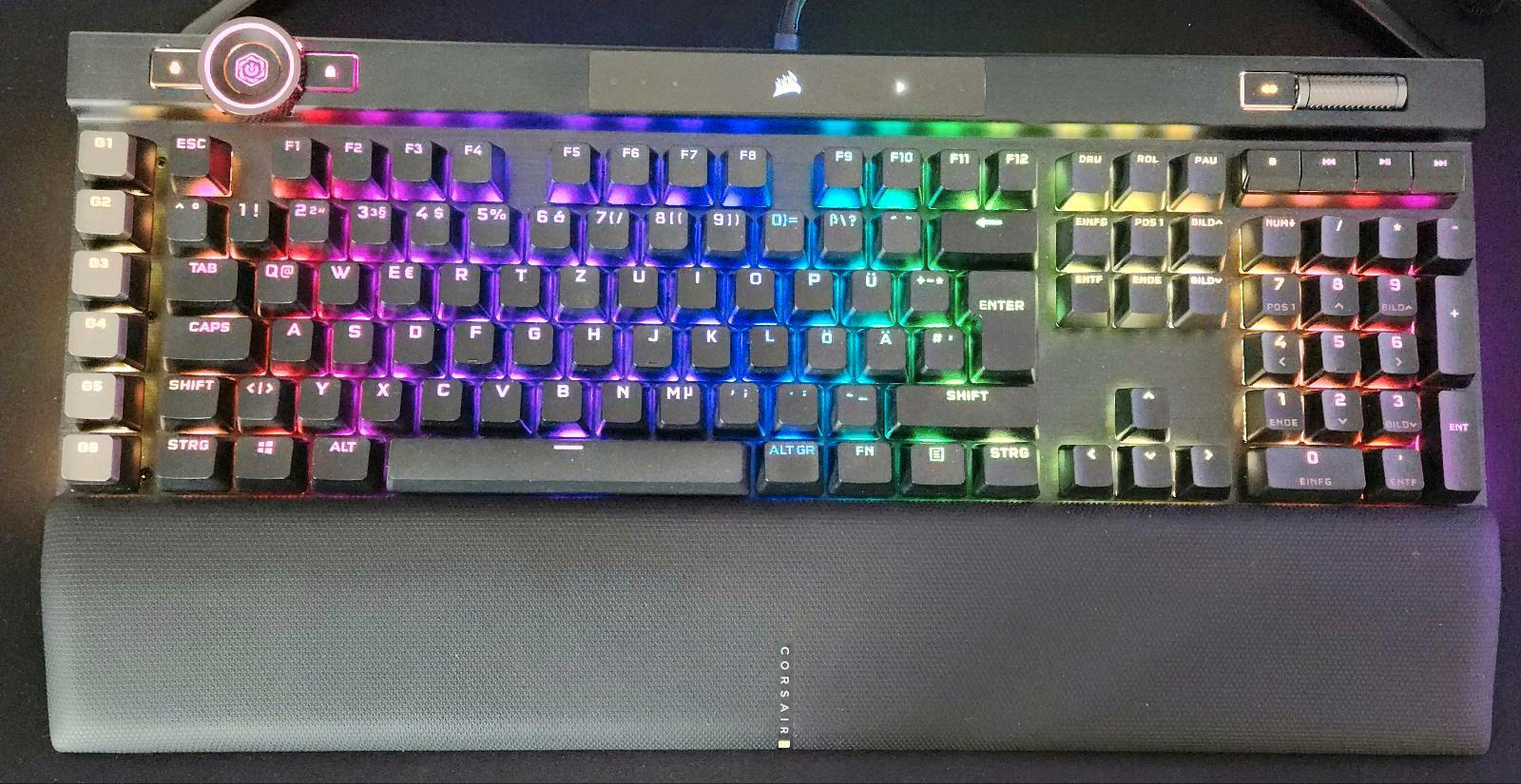0: (761, 207, 805, 253)
1: (226, 196, 270, 240)
2: (284, 196, 330, 242)
3: (346, 198, 392, 245)
4: (408, 199, 450, 244)
5: (465, 201, 511, 248)
6: (527, 204, 572, 249)
7: (586, 204, 630, 250)
8: (645, 204, 689, 250)
9: (703, 207, 747, 251)
a: (267, 314, 313, 360)
accent: (878, 209, 921, 254)
ae: (862, 323, 906, 371)
alt-left: (306, 431, 371, 481)
altgr-right: (759, 437, 820, 484)
b: (537, 376, 582, 421)
c: (418, 375, 462, 420)
caret: (165, 194, 207, 241)
comma: (716, 379, 760, 424)
d: (391, 316, 433, 363)
del: (936, 207, 1036, 254)
e: (375, 259, 422, 304)
enter: (965, 264, 1035, 373)
f: (450, 317, 493, 363)
g: (510, 319, 553, 364)
h: (569, 319, 612, 365)
hash: (919, 323, 963, 370)
i: (675, 263, 716, 306)
j: (630, 320, 672, 366)
k: (688, 320, 730, 368)
keyboard: (52, 122, 1491, 514)
l: (746, 320, 788, 367)
less: (234, 373, 279, 419)
m: (656, 379, 701, 425)
minus: (832, 380, 878, 427)
n: (600, 376, 642, 422)
o: (733, 264, 775, 307)
oe: (804, 322, 848, 370)
p: (792, 266, 834, 309)
plus: (906, 266, 951, 312)
point: (774, 380, 818, 426)
q: (253, 257, 299, 302)
r: (436, 260, 480, 305)
s: (329, 316, 373, 363)
shift-left: (155, 372, 221, 419)
shift-lock: (159, 312, 252, 360)
shift-right: (892, 382, 1036, 427)
space: (383, 435, 749, 490)
ss: (822, 208, 865, 253)
strg-left: (152, 430, 221, 481)
strg-right: (978, 440, 1040, 488)
t: (496, 260, 540, 305)
tab: (163, 254, 239, 300)
u: (616, 262, 658, 306)
ue: (848, 266, 893, 311)
v: (477, 376, 521, 423)
w: (318, 258, 359, 303)
x: (358, 375, 402, 419)
y: (295, 374, 339, 419)
z: (556, 262, 599, 307)
